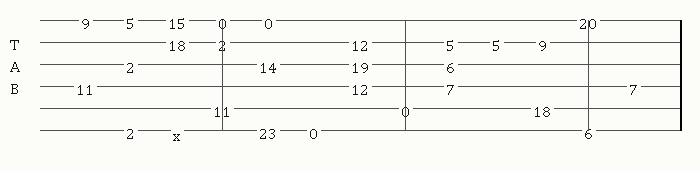0: (218, 13, 231, 27), (264, 13, 277, 27), (309, 123, 322, 137), (401, 101, 414, 115)
11: (76, 79, 98, 93), (213, 101, 235, 115)
12: (351, 35, 373, 49), (351, 79, 373, 93)
14: (259, 57, 281, 71)
15: (168, 13, 190, 28)
18: (168, 35, 190, 49), (533, 101, 555, 115)
19: (351, 57, 373, 71)
2: (126, 123, 139, 137), (126, 57, 139, 71), (218, 35, 231, 49)
20: (579, 13, 601, 27)
23: (259, 123, 281, 137)
5: (126, 13, 139, 28), (446, 35, 459, 50), (492, 35, 505, 50)
6: (446, 57, 459, 71), (584, 123, 597, 137)
7: (446, 79, 459, 93), (629, 79, 642, 93)
9: (81, 13, 94, 27), (538, 35, 551, 49)
x: (173, 125, 185, 136)
